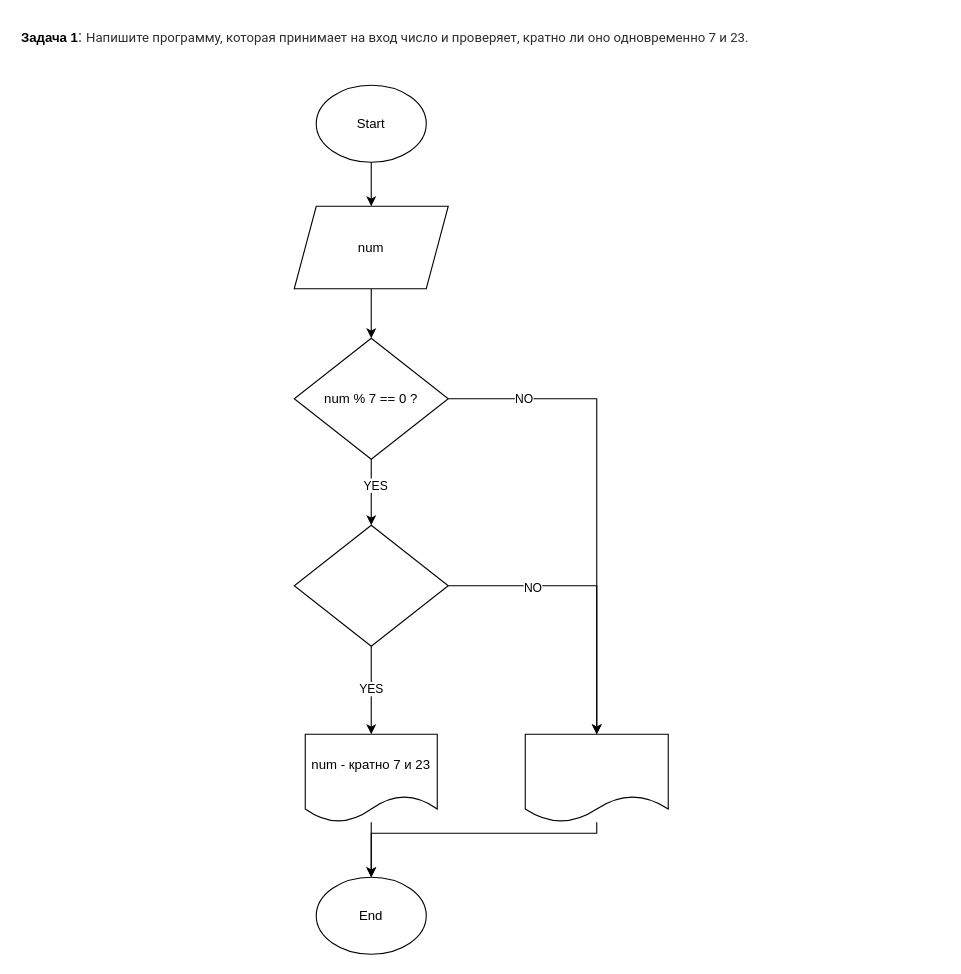
The diagram is 961 pixels wide and 974 high, and some of its shapes have lost their labels. The box of each missing label's shape, as (x1, y1, x2, y2) in pixels:
num % 23 == 0 ?: (293, 524, 448, 646)
num - некратно 7 и 23: (524, 733, 668, 822)
